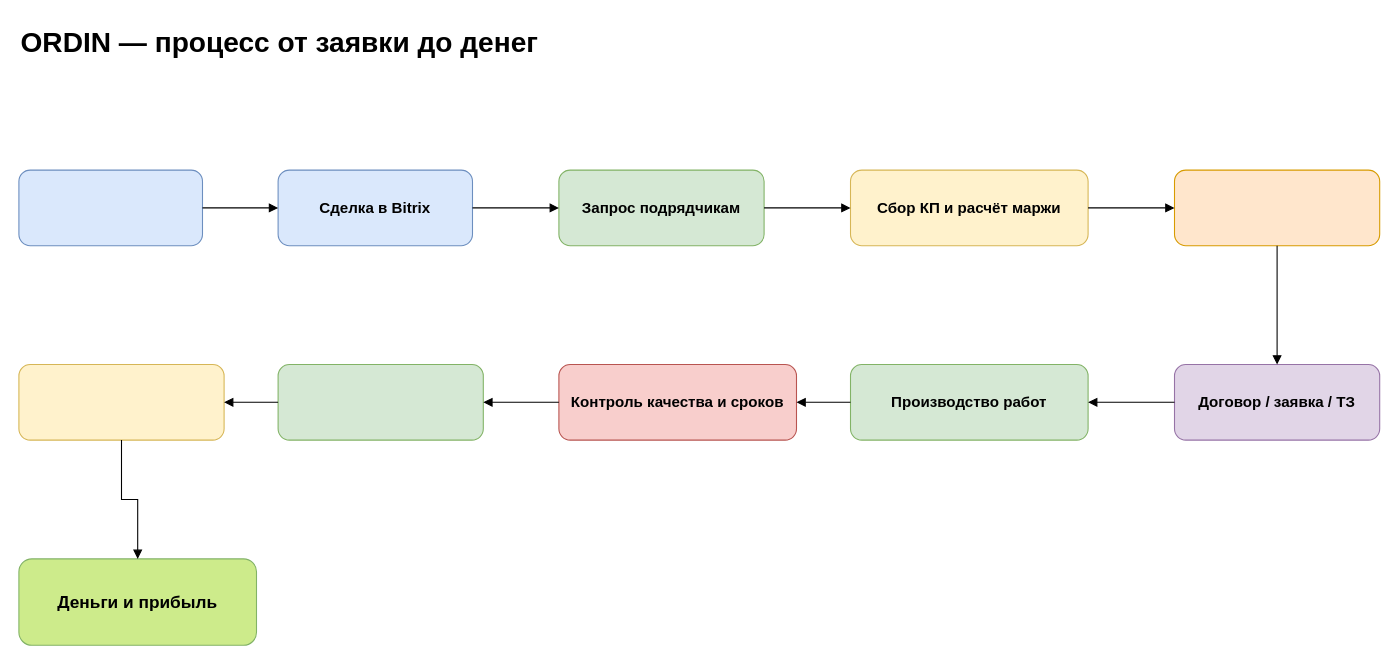
The diagram is 1399 pixels wide and 664 high, and some of its shapes have lost their labels. Each missing label, with the box of its shape:
Закрывающие документы: (18, 363, 224, 440)
КП заказчику: (1173, 169, 1380, 246)
Новая заявка: (18, 169, 202, 246)
Результат заказчику: (277, 363, 483, 440)
